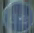bike lane: (2, 1, 32, 32)
